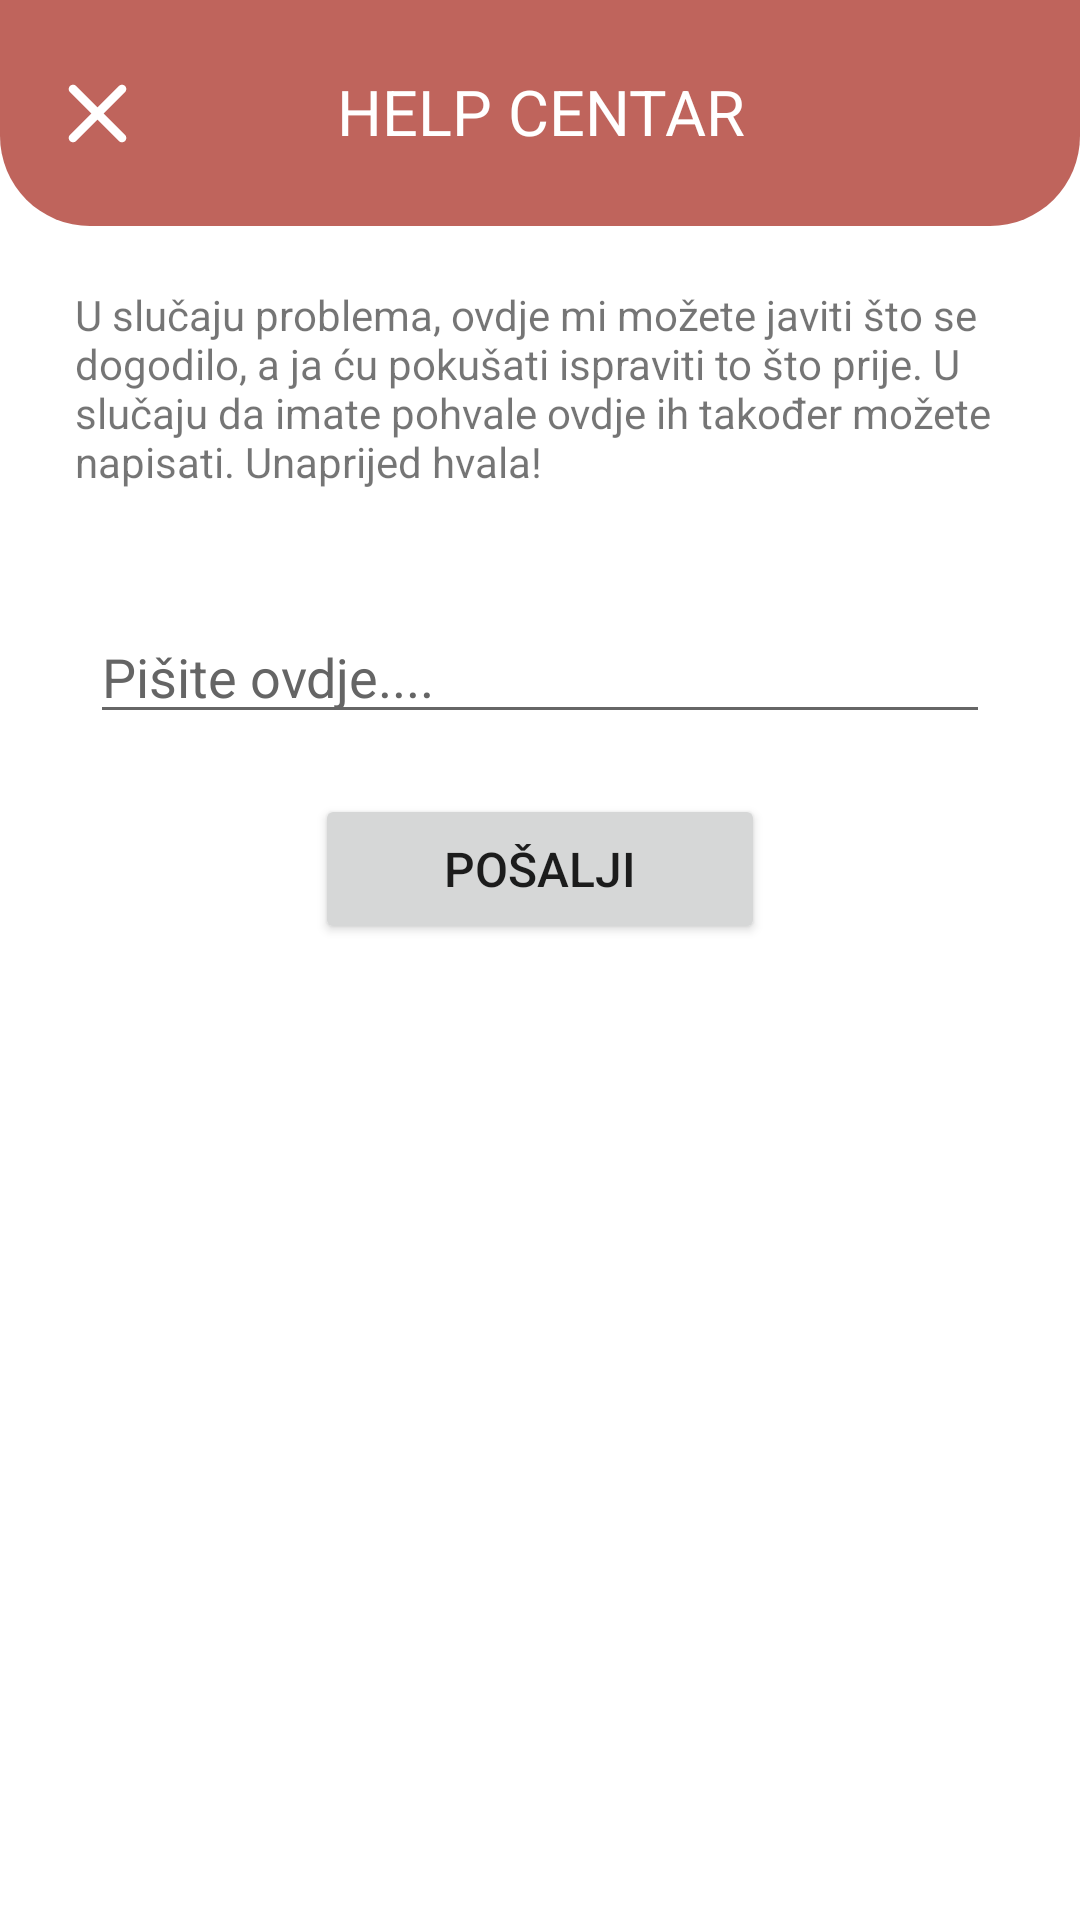

Screen size 1080px x 1920px. Icon name, then its box in pixels as {"left": x1, "top": y1, "right": x2, "bottom": y2}:
close: {"left": 68, "top": 84, "right": 127, "bottom": 143}
